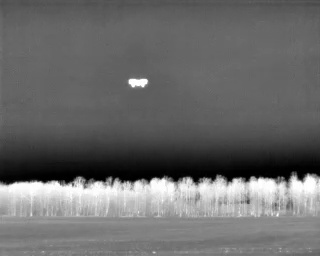DRONE: (124, 73, 151, 93)
